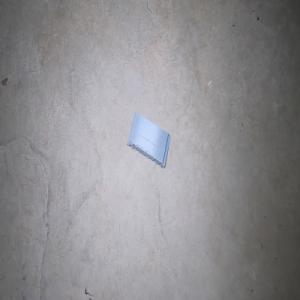PlasticPart: (126, 112, 170, 169)
